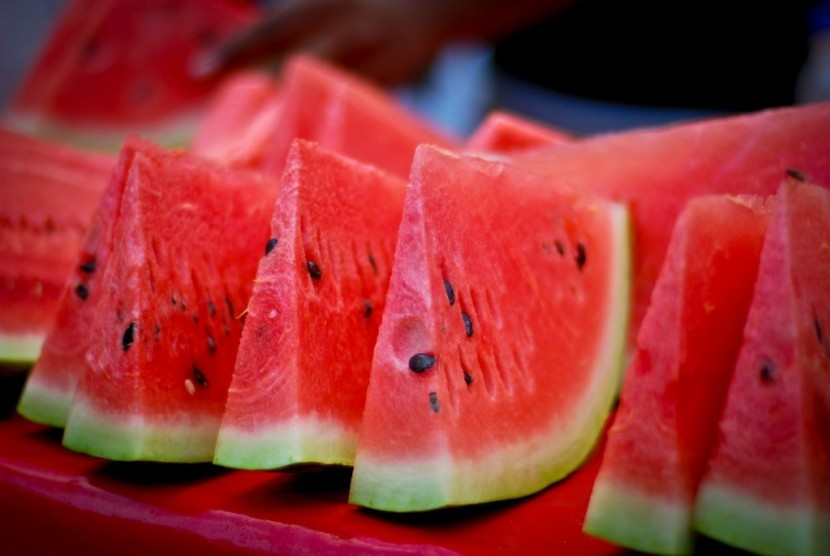Semangka: (348, 181, 646, 509), (241, 142, 407, 454), (78, 150, 250, 444)
